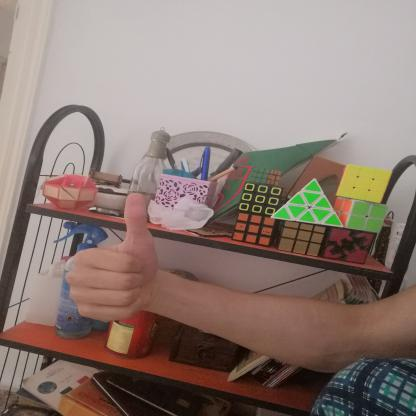ALIF: (53, 188, 166, 335)
